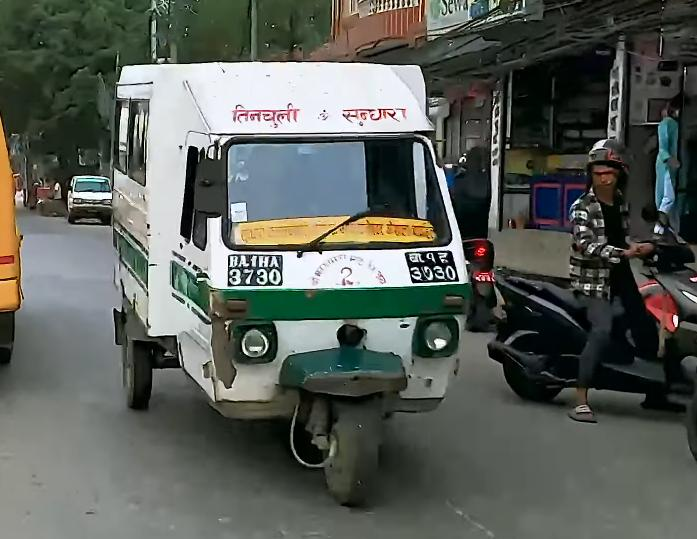scooter: (482, 218, 697, 405)
tempo: (98, 51, 483, 503)
van: (62, 168, 115, 225)
